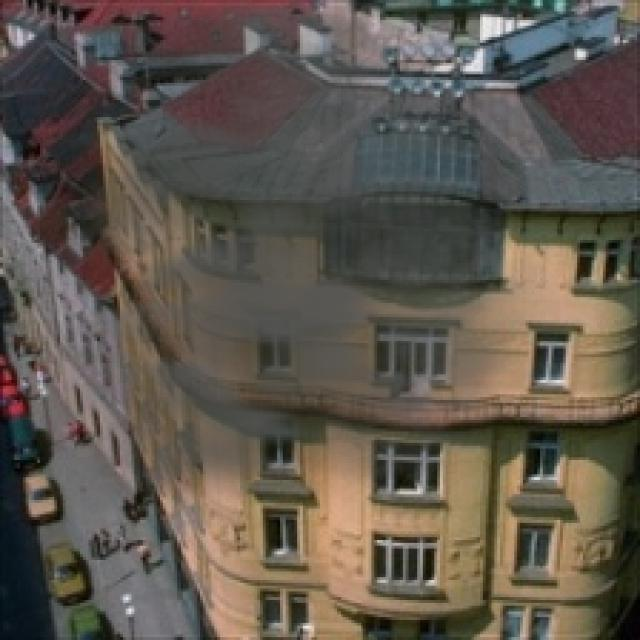smoke: (40, 6, 600, 526)
